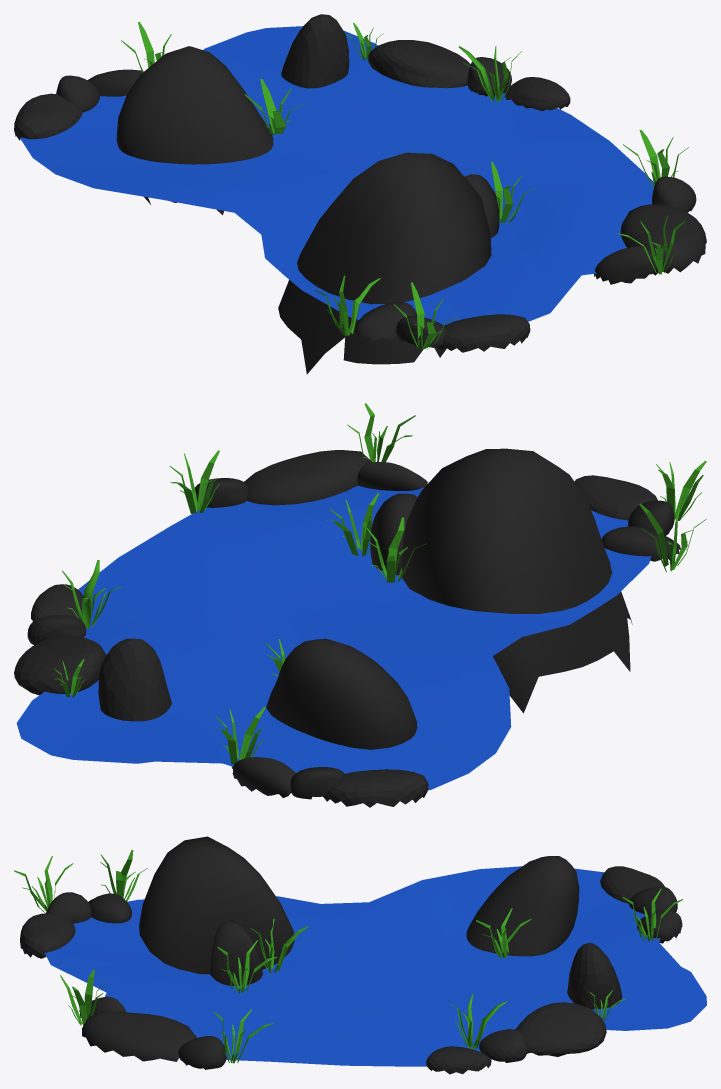
File: pond_4.FBX
3 views of the same model, one above another, from view 1: azimuth 30°, elevation 25°; view 2: azimuth 150°, elevation 25°; view 3: azimuth 270°, elevation 25° (orthographic). The views are drawn at different scales.
Visible parts, largest first — view 1: Plane005, pond_4, Grass_010; view 2: Plane005, pond_4, Grass_010; view 3: Plane005, pond_4, Grass_010.
Boxes of the visible parts, x1,y1,x2,y2 form: Plane005: (20, 26, 654, 325); pond_4: (14, 14, 706, 374); Grass_010: (121, 22, 688, 349); Plane005: (16, 485, 651, 790); pond_4: (14, 448, 680, 807); Grass_010: (53, 403, 706, 768); Plane005: (44, 866, 706, 1066); pond_4: (20, 836, 682, 1074); Grass_010: (14, 850, 682, 1063).
Bounding box in the file's own units: 28.61 × 11.19 × 41.28.
